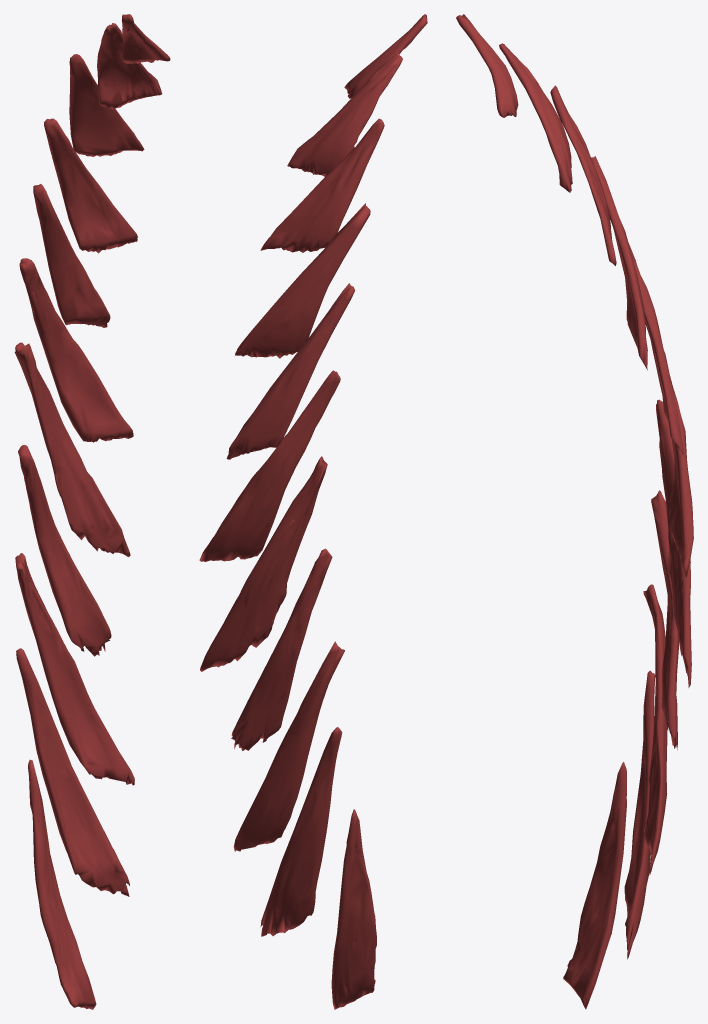
File: levatores-longi-costarum-l.glb
The picture shows the model from 3 angles, left to right: view 1: azimuth 30°, elevation 25°; view 2: azimuth 150°, elevation 25°; view 3: azimuth 270°, elevation 25°; orthographic projection. The views are drawn at different scales.
Parts seen in each view (by area): view 1: Levatores longi costarum.l; view 2: Levatores longi costarum.l; view 3: Levatores longi costarum.l.
Boxes of the visible parts, x1,y1,x2,y2 form: Levatores longi costarum.l: [14, 14, 170, 1009]; Levatores longi costarum.l: [199, 14, 427, 1009]; Levatores longi costarum.l: [456, 14, 693, 1009].
Size of the model in its own units: 0.0472 by 0.3298 by 0.0725.
